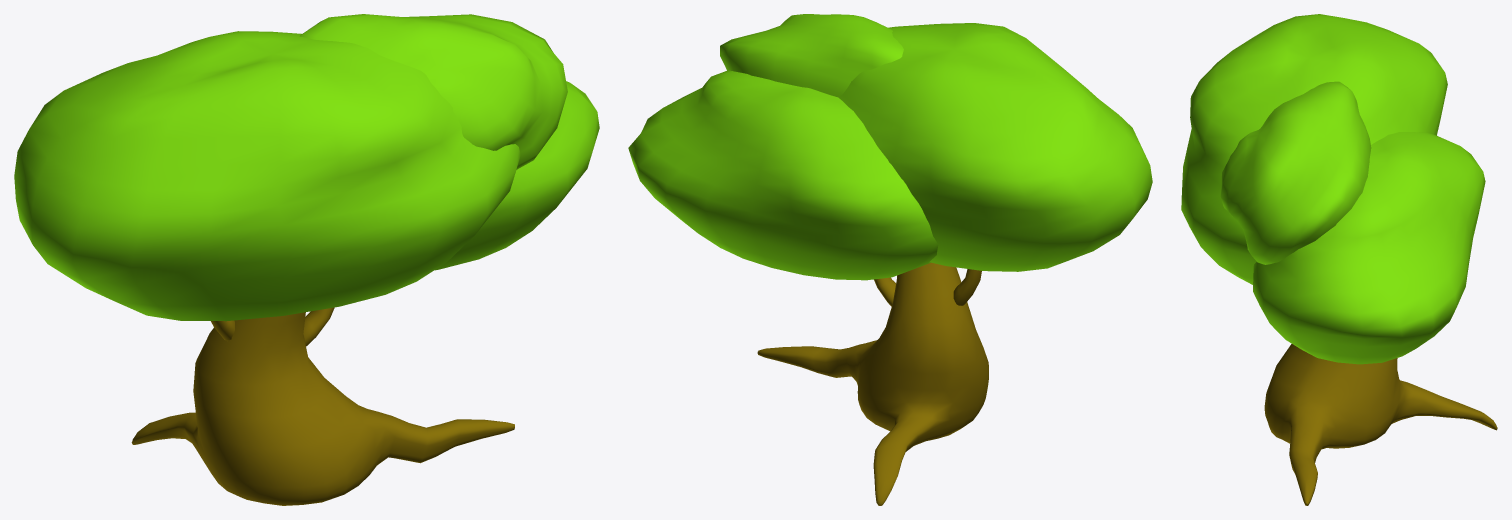
File: TreeSmooth.fbx
3 renders of one model, left to right at view 1: azimuth 30°, elevation 25°; view 2: azimuth 150°, elevation 25°; view 3: azimuth 270°, elevation 25°, orthographic. The views are drawn at different scales.
Visible parts, largest first — view 1: pCylinder5; view 2: pCylinder5; view 3: pCylinder5.
Boxes of the visible parts, x1,y1,x2,y2 form: pCylinder5: [14, 14, 599, 505]; pCylinder5: [628, 14, 1152, 505]; pCylinder5: [1181, 14, 1497, 505].
Bounding box in the file's own units: 5.25 × 4.1 × 3.04.
